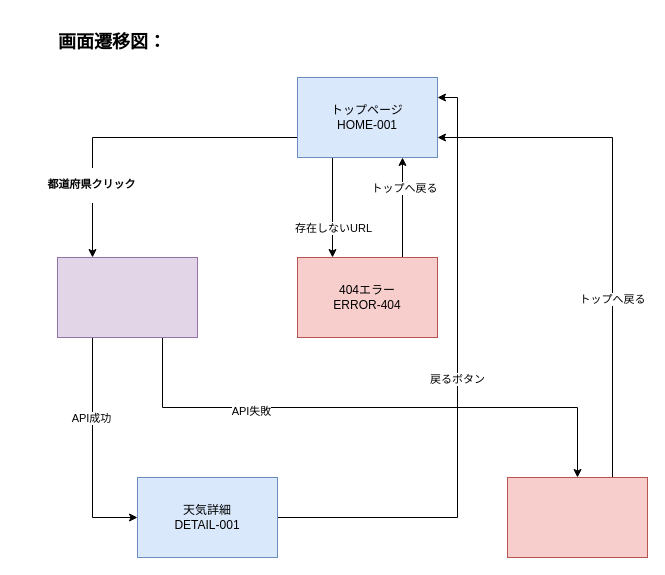
The diagram is 665 pixels wide and 575 high, and some of its shapes have lost their labels. Here are the shapes that lost their labels. From the top down, the box of each, then its label:
(56, 256, 198, 338): ローディング
(506, 476, 648, 558): エラーページ ERROR-XXX
